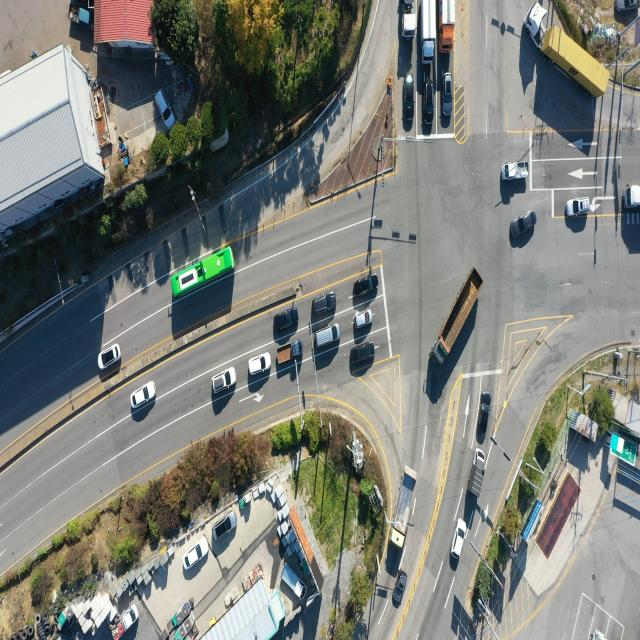car: (182, 535, 210, 574), (156, 88, 175, 128), (349, 341, 376, 369), (510, 211, 536, 239), (313, 323, 340, 349), (478, 393, 492, 443), (273, 308, 299, 333), (212, 367, 237, 393), (353, 275, 379, 300), (133, 380, 157, 407), (213, 512, 236, 540), (98, 344, 122, 370), (452, 518, 467, 559), (312, 293, 338, 316), (392, 572, 407, 609), (248, 351, 271, 375), (406, 73, 416, 127), (444, 75, 454, 122), (423, 83, 434, 125), (565, 199, 589, 218), (353, 309, 372, 329), (616, 0, 640, 13)
large_bus: (169, 247, 236, 305)
large_truck: (527, 4, 612, 97)
medium_truck: (433, 269, 481, 368), (390, 465, 420, 554), (420, 0, 440, 63), (440, 0, 456, 54), (404, 0, 418, 38), (626, 184, 640, 215)
small_truck: (112, 601, 139, 640), (470, 448, 490, 500), (279, 561, 305, 596), (276, 341, 302, 366), (68, 3, 92, 30), (503, 162, 530, 182)
